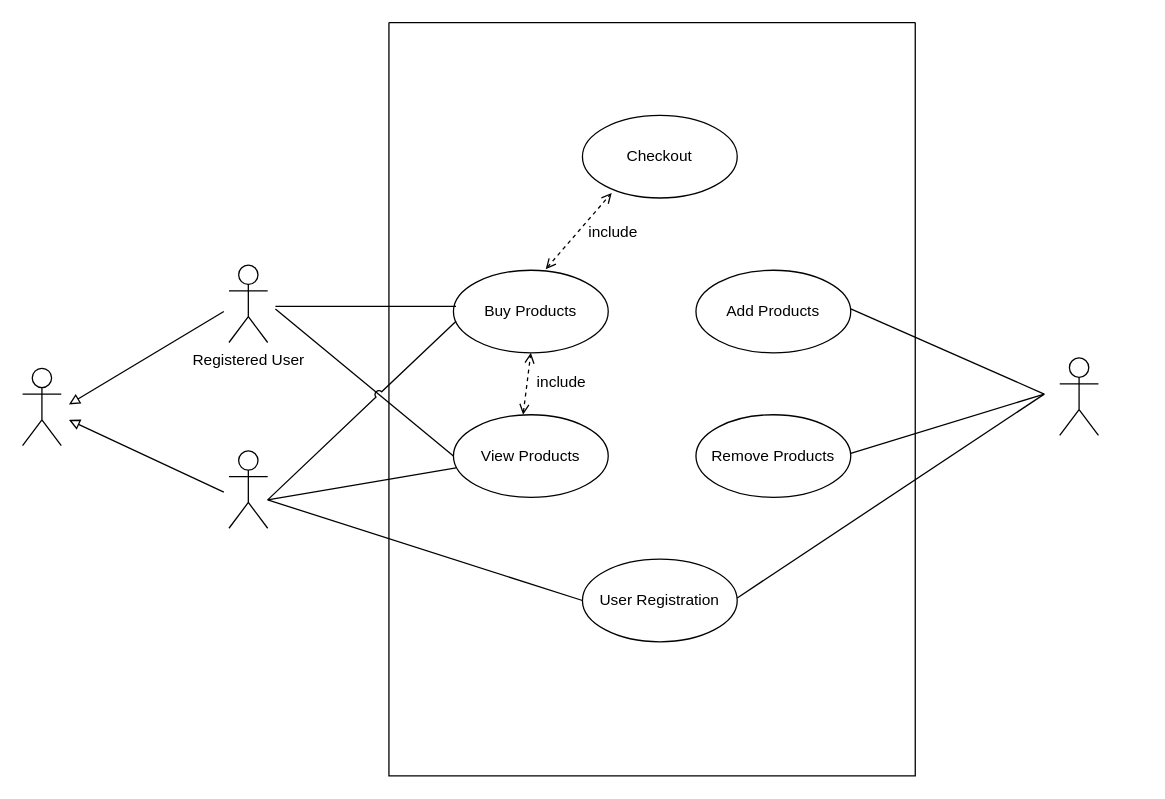
This 1165x799 diagram has some shape labels left out. The shapes that lost their labels are listed below. From the top down, each one's centre as x and y in pixels, then its label:
(x=41, y=406): User
(x=1078, y=396): System Administor
(x=248, y=489): New User
